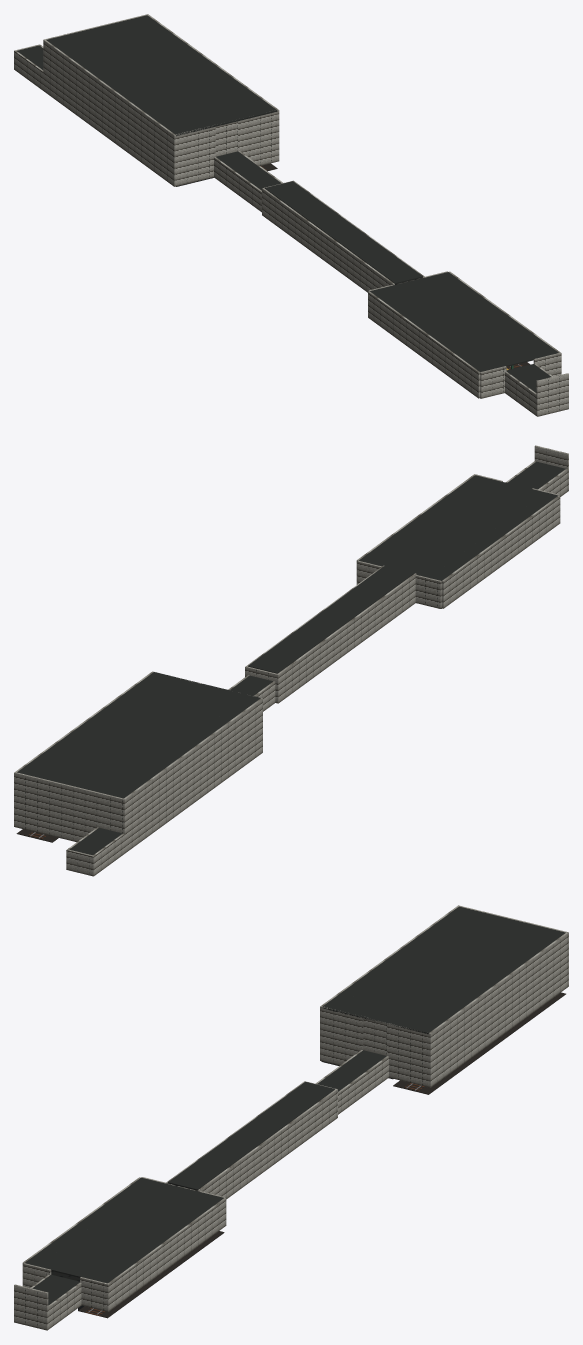
The picture shows the model from 3 angles, top to bottom: view 1: azimuth 30°, elevation 25°; view 2: azimuth 150°, elevation 25°; view 3: azimuth 330°, elevation 25°; orthographic projection. The views are drawn at different scales.
Visible parts, largest first — view 1: tsh_sub; view 2: tsh_sub; view 3: tsh_sub.
Part boxes in pixels (<box>): tsh_sub: <box>14,14,568,416</box>; tsh_sub: <box>14,445,568,876</box>; tsh_sub: <box>14,905,568,1330</box>.
Size of what is drawn, in the model's own units: 18.6 by 9.9 by 150.
119 materials, 42 textured.
